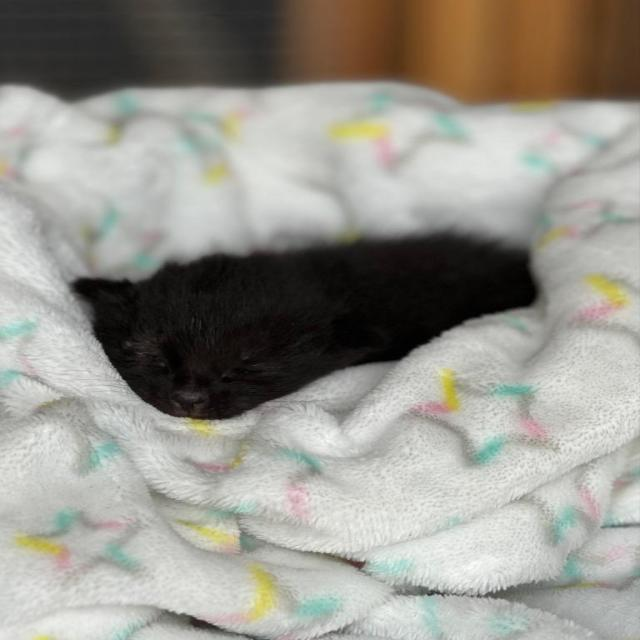bombay_cat: (48, 261, 367, 427)
